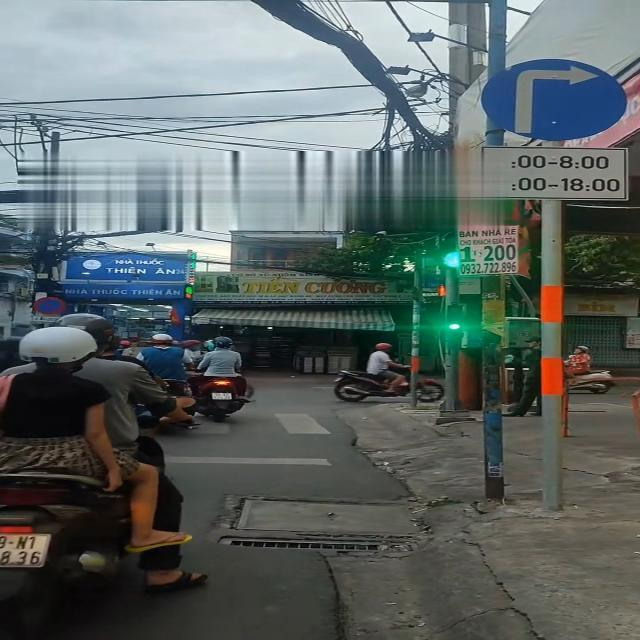301d-cac-xe-chi-duoc-re-phai-2: (480, 56, 628, 140)
